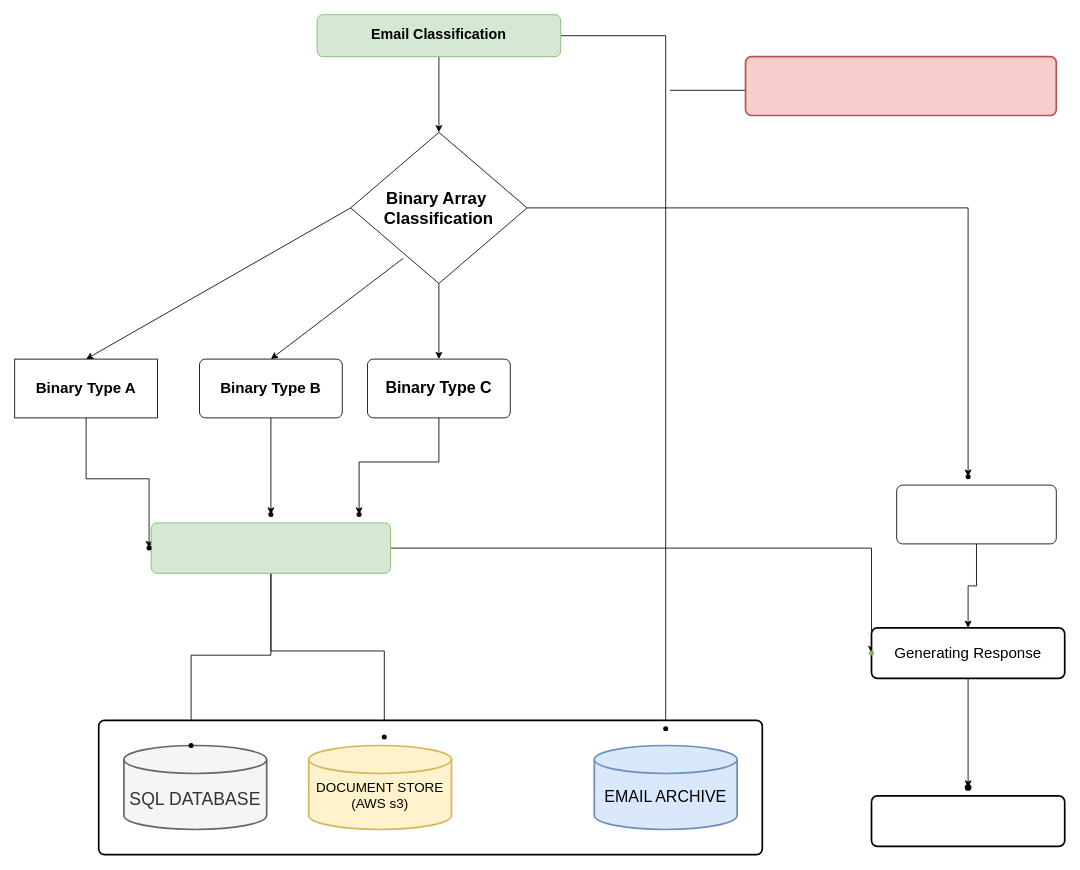
Image size: 1080x870. Some labels were removed from this diagram. The shapes that lost their labels are listed below. From the top down, each one's box as (x1, y1, x2, y2) in pixels, then its label:
(744, 55, 1057, 116): EMAIL INGESTION PROCESS
(896, 484, 1056, 544): Binary Type D
(150, 522, 391, 573): Data Retrieval layer
(870, 795, 1065, 847): Email Response
